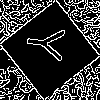Y: (25, 25, 75, 64)
